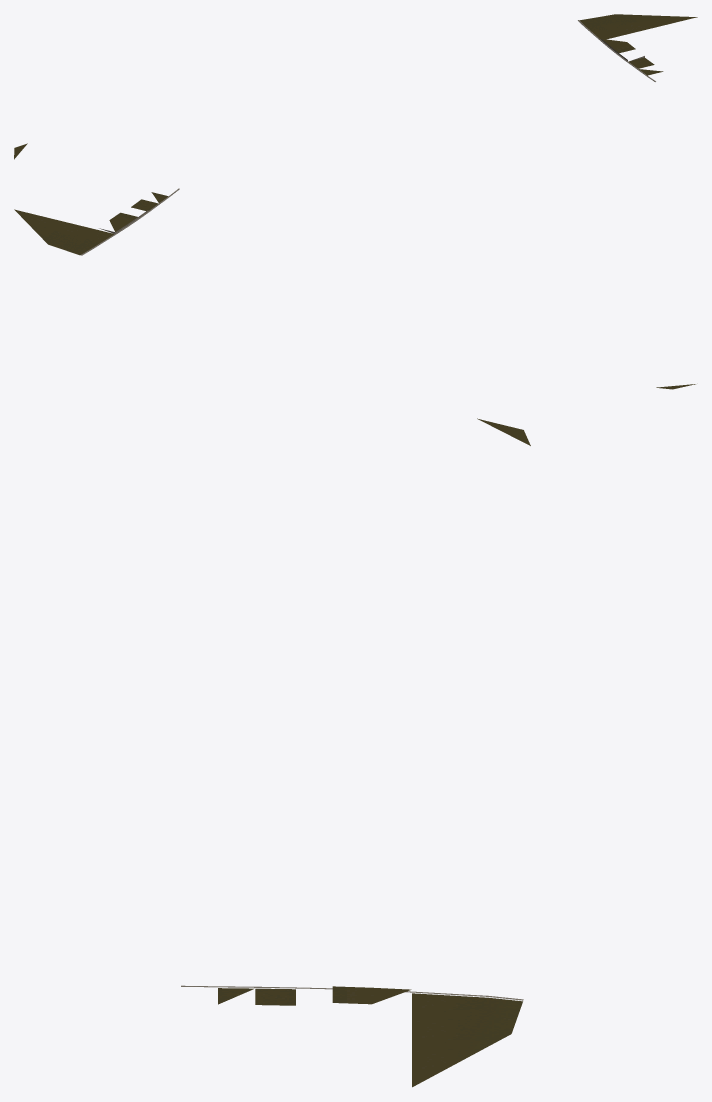
Rendered from world_camden_9_-1.gltf.
The picture shows the model from 3 angles, top to bottom: view 1: azimuth 30°, elevation 25°; view 2: azimuth 150°, elevation 25°; view 3: azimuth 270°, elevation 25°; orthographic projection. The views are drawn at different scales.
Bounding box in the file's own units: 189 × 2.75 × 42.95.
2 materials, 2 textured.
